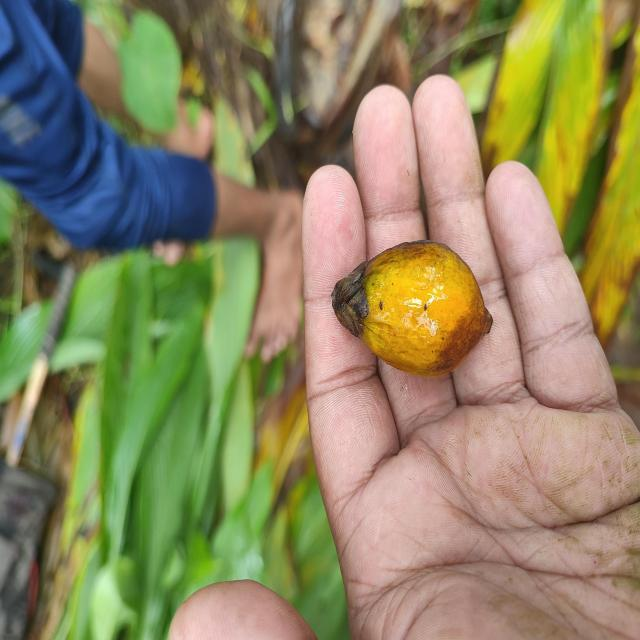good: (333, 240, 493, 379)
